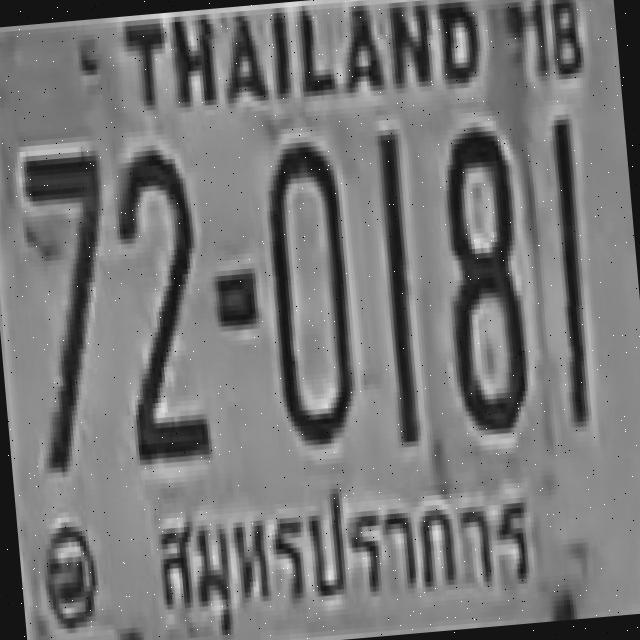0: (258, 134, 360, 442)
1: (369, 127, 422, 440), (544, 119, 594, 427)
2: (108, 142, 210, 460)
7: (17, 142, 122, 470)
8: (432, 120, 531, 432)
SamutPrakan: (146, 471, 554, 627)
